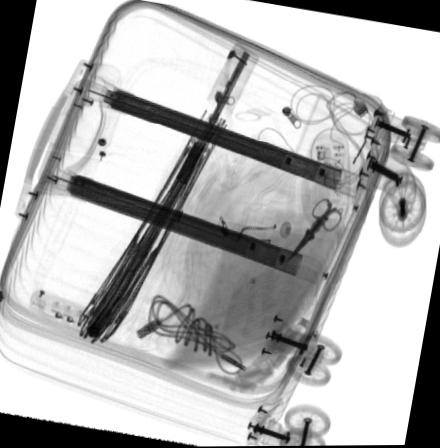Scissors: (285, 197, 343, 263)
